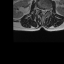CCS_normal: (42, 7, 44, 17)
LFS_normal: (47, 6, 49, 13)
LLS_normal: (44, 6, 47, 14)
RFS_stenosis: (39, 6, 41, 12)
RLS_normal: (40, 7, 42, 14)
